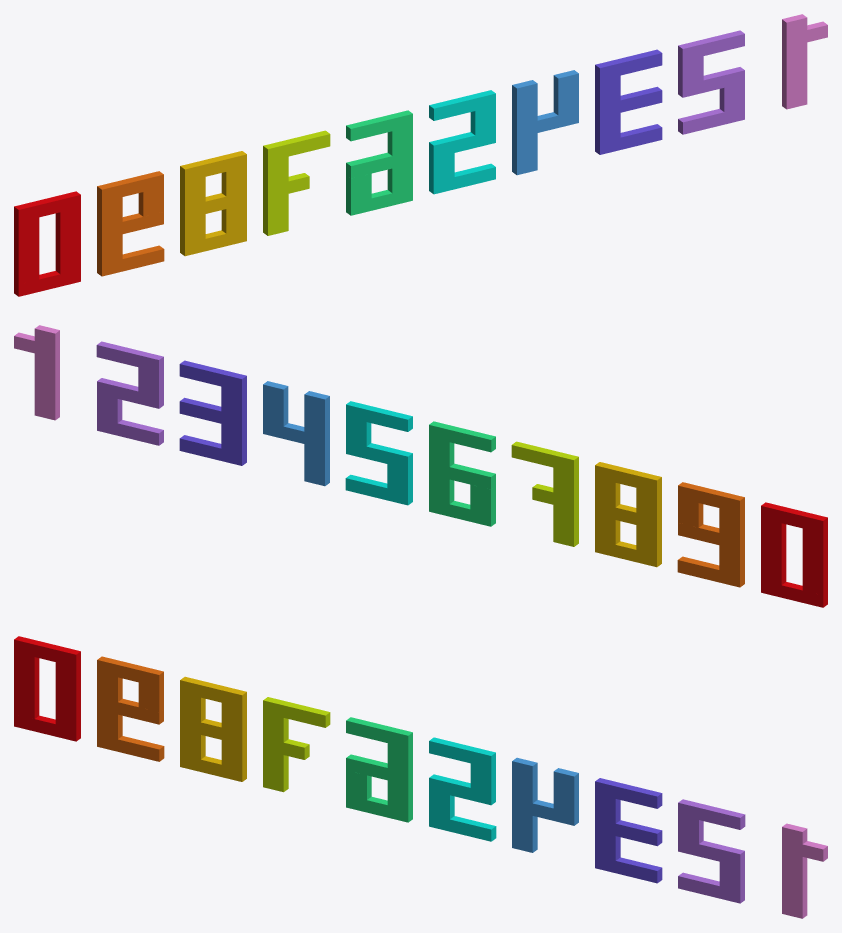
Rendered from Checkpoint Numbers.fbx.
3 views of the same model, one above another, from view 1: azimuth 30°, elevation 25°; view 2: azimuth 150°, elevation 25°; view 3: azimuth 330°, elevation 25° (orthographic).
Parts seen in each view (by area): view 1: 8, 0, 9, 6, 3, 2, 5, 4, 7, 1; view 2: 8, 0, 9, 6, 3, 5, 2, 4, 7, 1; view 3: 8, 0, 9, 6, 3, 2, 5, 4, 7, 1.
Part boxes in pixels (x1,y1,x2,y2): 8: (180,151,246,256); 0: (14,191,80,296); 9: (97,171,164,276); 6: (346,110,412,215); 3: (595,49,662,154); 2: (678,30,744,134); 5: (429,90,495,194); 4: (512,70,578,175); 7: (263,130,330,235); 1: (782,14,827,109); 8: (595,462,661,567); 0: (761,502,827,607); 9: (677,482,744,587); 6: (429,421,495,526); 3: (179,360,246,465); 5: (345,401,412,505); 2: (96,341,163,445); 4: (263,381,329,486); 7: (511,441,578,546); 1: (14,325,59,420); 8: (180,676,246,781); 0: (14,636,80,741); 9: (97,656,164,761); 6: (346,717,412,822); 3: (595,778,662,883); 2: (678,799,745,903); 5: (429,737,496,841); 4: (512,757,578,852); 7: (263,697,330,792); 1: (782,823,827,918).
Bounding box in the file's own units: 1950 × 200 × 20.17.
